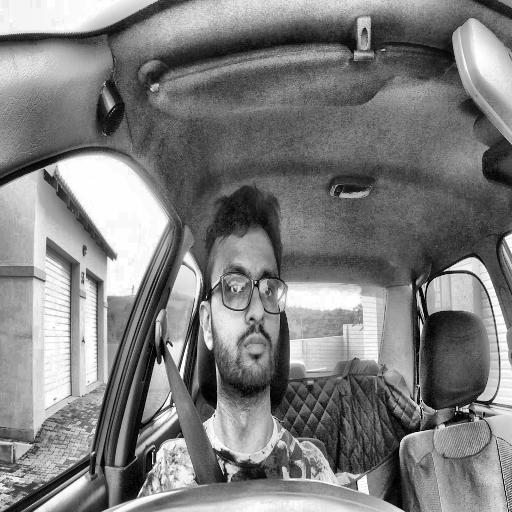awake: (200, 183, 288, 401)
